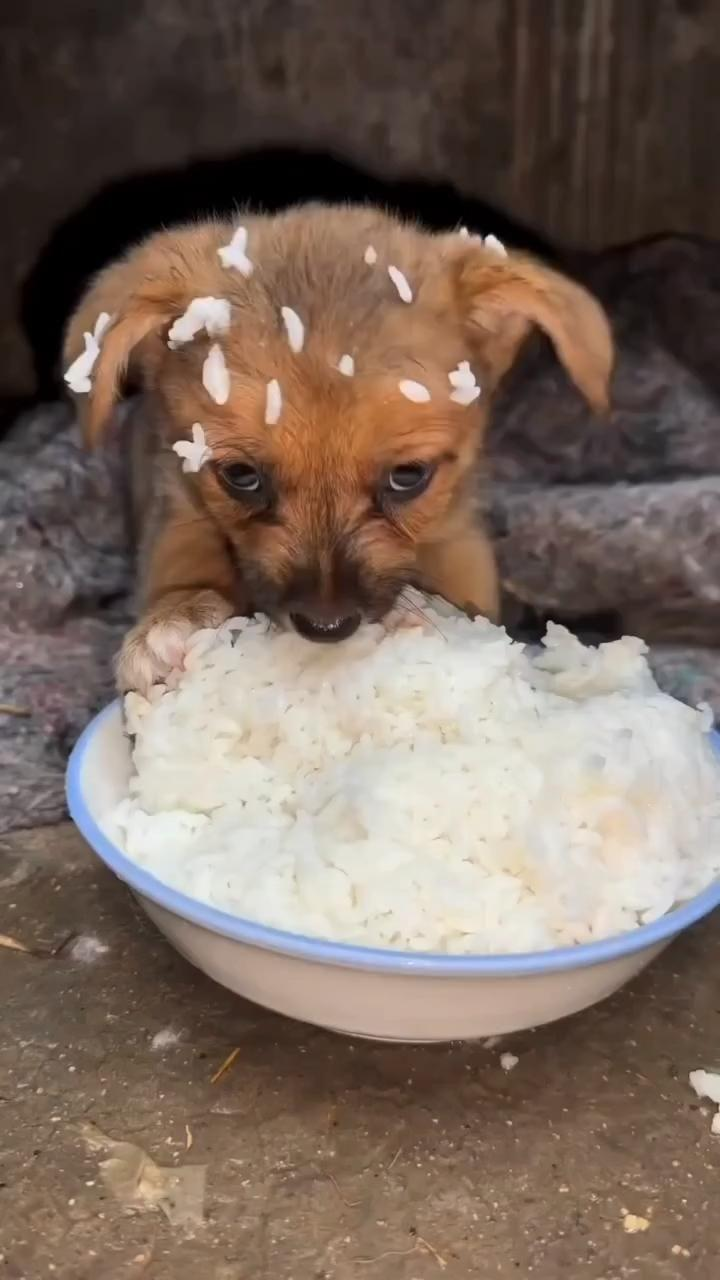puppy-dog: (52, 196, 622, 708)
